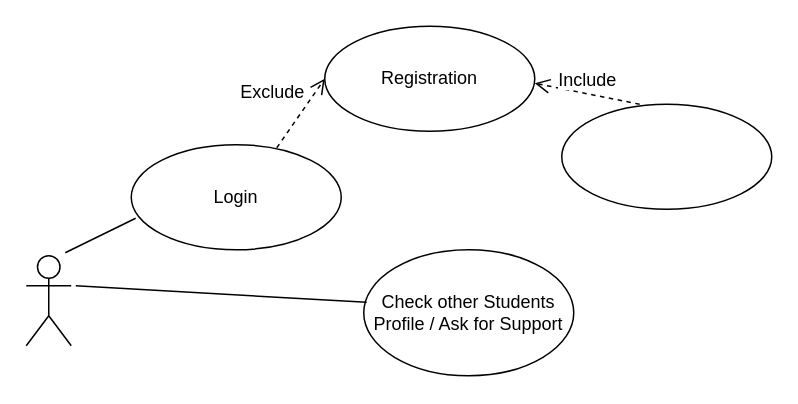
The diagram is 798 pixels wide and 404 high, and some of its shapes have lost their labels. Each missing label, with the centre of its shape:
"Actor" goes at [48,300].
"Creating Profile" goes at [666,156].
